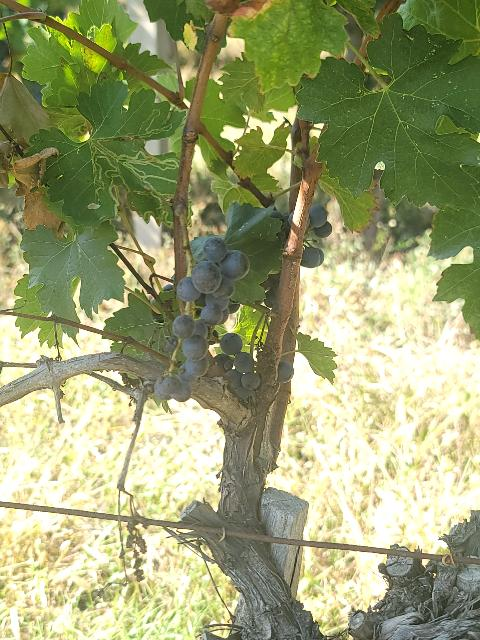grapes: (154, 236, 250, 401), (215, 332, 260, 398)
